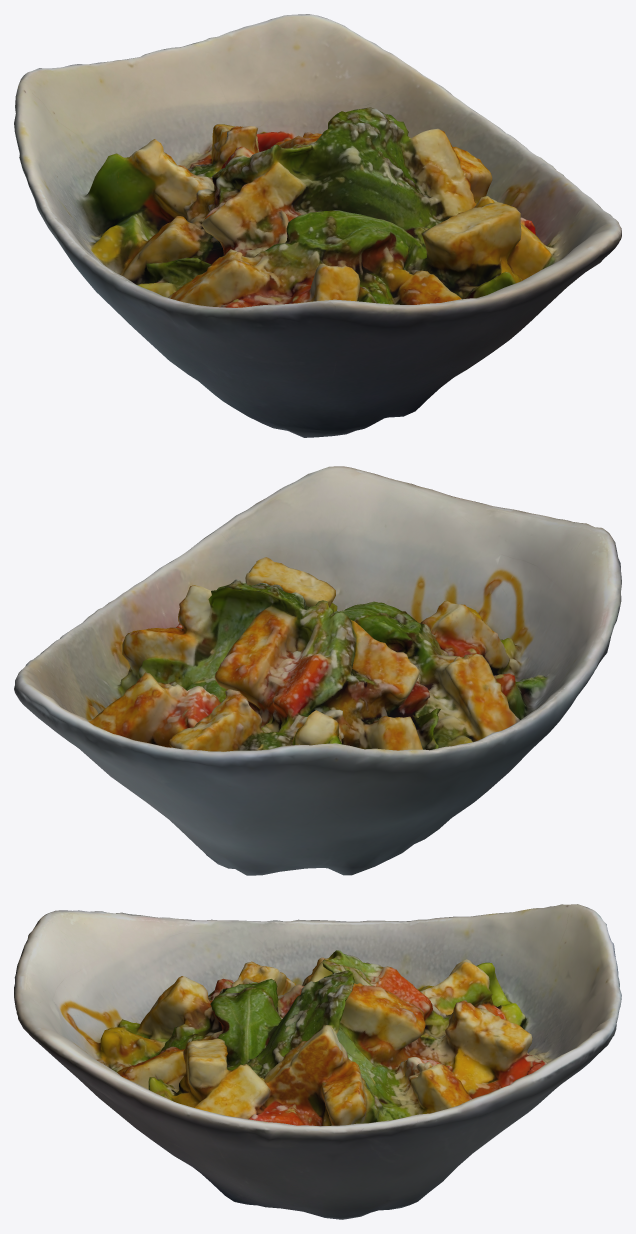
File: hallomiSalad_1752057967761.glb
3 views of the same model, one above another, from view 1: azimuth 30°, elevation 25°; view 2: azimuth 150°, elevation 25°; view 3: azimuth 270°, elevation 25° (orthographic). The views are drawn at different scales.
Parts seen in each view (by area): view 1: 3DModel_Custom; view 2: 3DModel_Custom; view 3: 3DModel_Custom.
Boxes of the visible parts, bbox=[...] form: 3DModel_Custom: bbox=[14, 14, 621, 437]; 3DModel_Custom: bbox=[14, 466, 621, 875]; 3DModel_Custom: bbox=[14, 904, 621, 1219].
Size of the model in its own units: 0.1782 by 0.0958 by 0.2282.
Materials: 1 (1 with a texture image).
